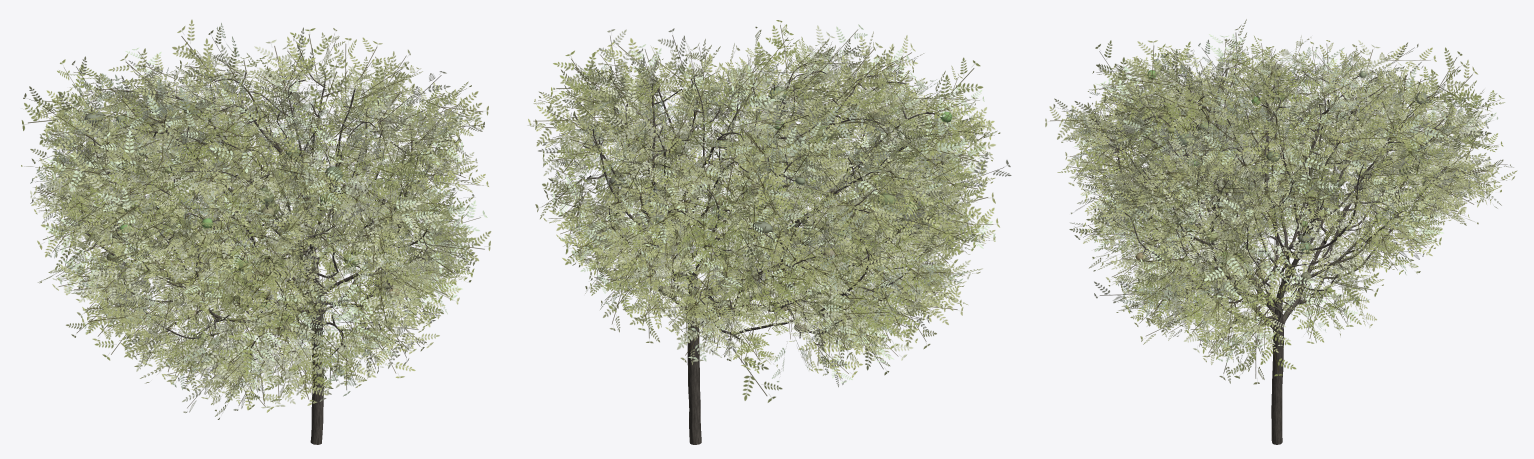
File: tree_39_broadleaf.glb
The picture shows the model from 3 angles, left to right: view 1: azimuth 30°, elevation 25°; view 2: azimuth 150°, elevation 25°; view 3: azimuth 270°, elevation 25°; orthographic projection. The views are drawn at different scales.
Parts seen in each view (by area): view 1: tree_39_broadleaf.leaves, tree_39_broadleaf.trunk_branches, tree_39_broadleaf.foliage_volume; view 2: tree_39_broadleaf.leaves, tree_39_broadleaf.trunk_branches, tree_39_broadleaf.foliage_volume; view 3: tree_39_broadleaf.leaves, tree_39_broadleaf.trunk_branches, tree_39_broadleaf.foliage_volume.
Boxes of the visible parts, box(x1,y1,x2,y2) form: tree_39_broadleaf.leaves: box(21, 19, 491, 419); tree_39_broadleaf.trunk_branches: box(73, 67, 431, 444); tree_39_broadleaf.foliage_volume: box(84, 102, 408, 341); tree_39_broadleaf.leaves: box(528, 20, 1011, 402); tree_39_broadleaf.trunk_branches: box(575, 60, 943, 444); tree_39_broadleaf.foliage_volume: box(610, 81, 952, 332); tree_39_broadleaf.leaves: box(1045, 19, 1517, 384); tree_39_broadleaf.trunk_branches: box(1092, 64, 1465, 444); tree_39_broadleaf.foliage_volume: box(1135, 70, 1434, 307).
Size of the model in its own units: 11.82 by 10.38 by 12.33.
3 materials, 2 textured.
